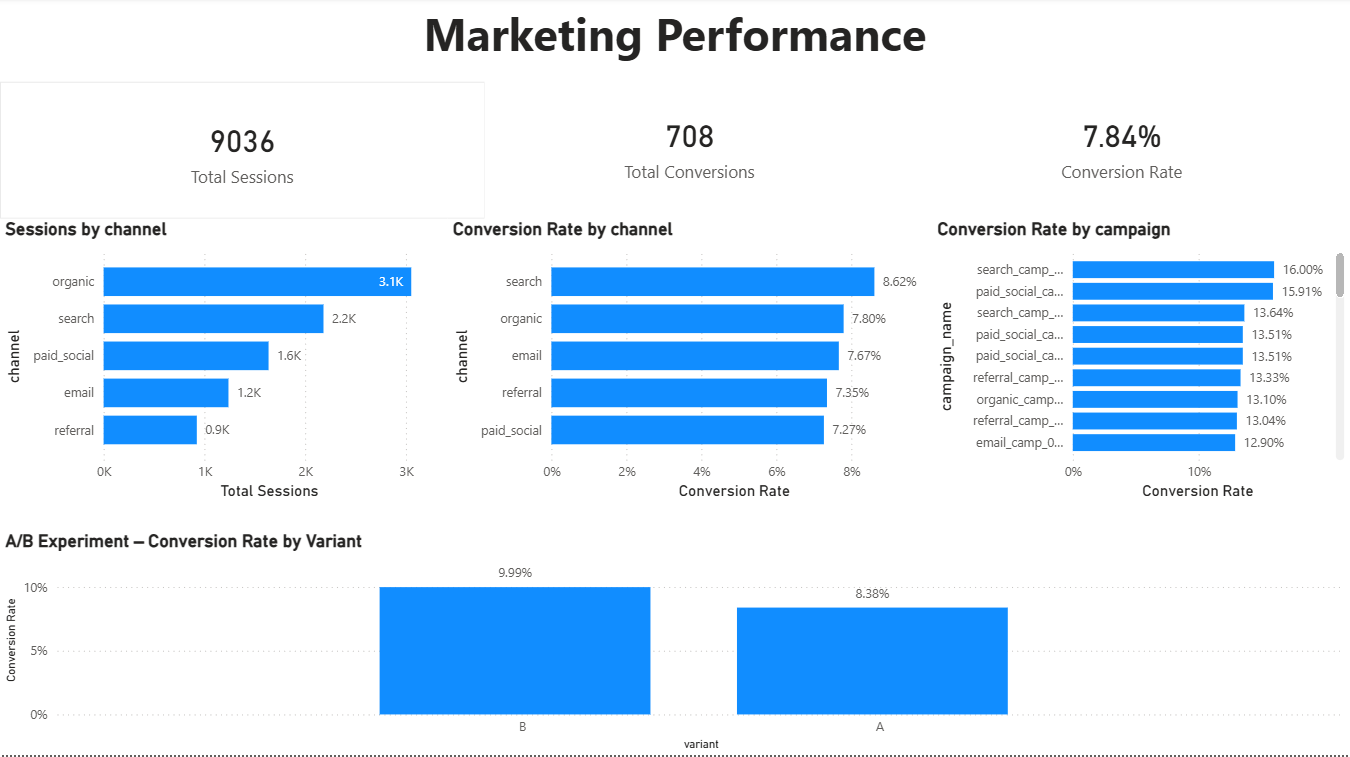

What the dashboard file says about the page in this screenshot:
{"tool":"powerbi","page":{"name":"Marketing Performance","canvas":[1280,720],"ordinal":1},"visuals":[{"type":"card","fields":{"Values":["fact_sessions.Total Sessions"]},"box":[0,80.2,459.3,130.1],"z":0},{"type":"card","fields":{"Values":["fact_sessions.Total Conversions"]},"box":[459.3,70.6,388.8,139.7],"z":1000},{"type":"card","fields":{"Values":["fact_sessions.Conversion Rate"]},"box":[848.1,70.6,431.7,139.7],"z":2000},{"type":"clusteredBarChart","title":"Sessions by channel","fields":{"Category":["fact_sessions.channel"],"Y":["fact_sessions.Total Sessions"]},"box":[0,210.3,424.7,271.2],"z":3000},{"type":"clusteredBarChart","fields":{"Category":["fact_sessions.channel"],"Y":["fact_sessions.Conversion Rate"]},"box":[424.7,210.3,459.3,271.2],"z":4000},{"type":"clusteredBarChart","title":"Conversion Rate by campaign","fields":{"Category":["fact_sessions.campaign_name"],"Y":["fact_sessions.Conversion Rate"]},"box":[884.1,210.3,395.7,271.2],"z":5000},{"type":"clusteredColumnChart","title":"A/B Experiment – Conversion Rate by Variant","fields":{"Category":["fact_sessions.variant"],"Y":["fact_sessions.Conversion Rate"]},"box":[0,506.4,1279.8,213.1],"z":6000},{"type":"textbox","box":[0,0,1279.7,79.5],"z":7000}]}

Visuals, with their boxes in screenshot pixels (x1, y1, x2, y2), scaled from the page's 1280x720 canvas onto the 1350x757 screenshot:
card - fact_sessions.Total Sessions: (left=0, top=84, right=484, bottom=221)
card - fact_sessions.Total Conversions: (left=484, top=74, right=894, bottom=221)
card - fact_sessions.Conversion Rate: (left=894, top=74, right=1349, bottom=221)
"Sessions by channel" clusteredBarChart: (left=0, top=221, right=448, bottom=506)
clusteredBarChart - fact_sessions.channel x fact_sessions.Conversion Rate: (left=448, top=221, right=932, bottom=506)
"Conversion Rate by campaign" clusteredBarChart: (left=932, top=221, right=1349, bottom=506)
"A/B Experiment – Conversion Rate by Variant" clusteredColumnChart: (left=0, top=532, right=1349, bottom=756)
textbox: (left=0, top=0, right=1349, bottom=84)
